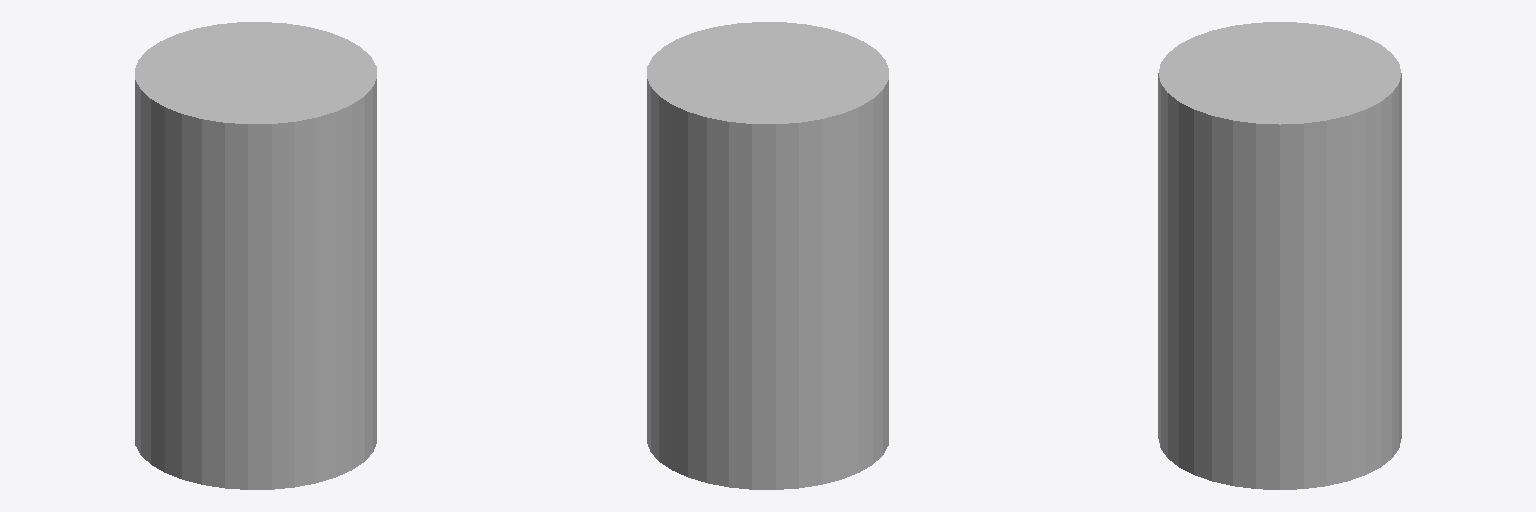
The model's file is robot.obj.
3 views of the same model, side by side, from view 1: azimuth 30°, elevation 25°; view 2: azimuth 150°, elevation 25°; view 3: azimuth 270°, elevation 25° (orthographic).
Visible parts, largest first — view 1: Cylinder; view 2: Cylinder; view 3: Cylinder.
Boxes of the visible parts, x1,y1,x2,y2 form: Cylinder: [135, 22, 376, 489]; Cylinder: [647, 22, 888, 489]; Cylinder: [1158, 22, 1401, 489].
Bounding box in the file's own units: 2 × 3.32 × 2.